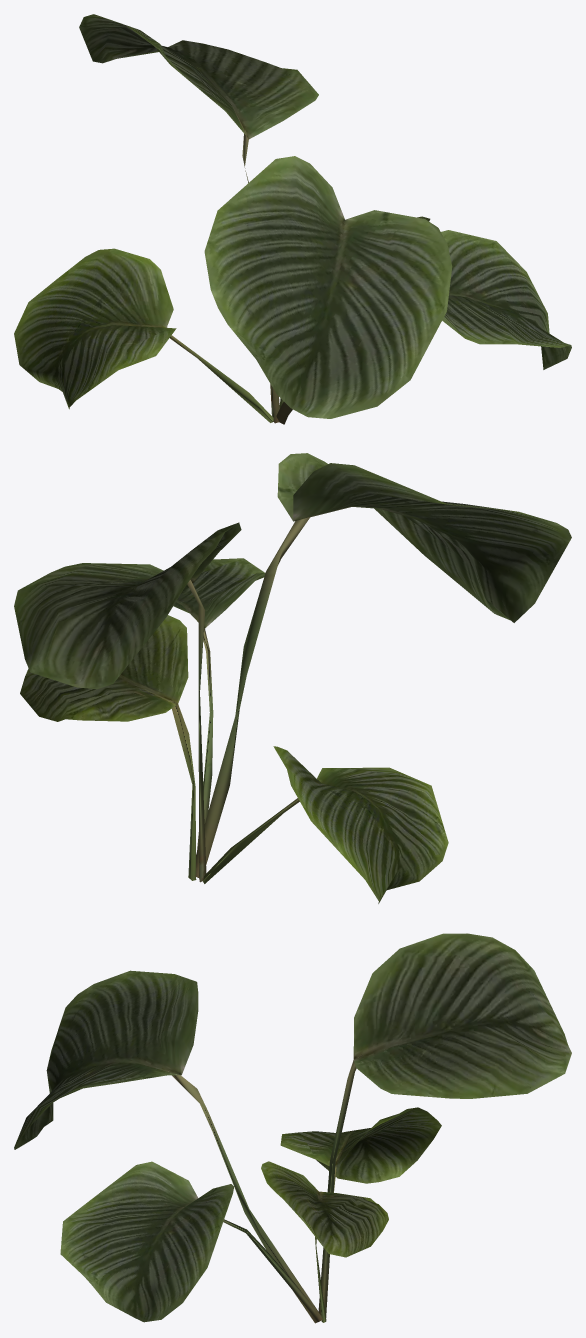
File: plant_calathea_b.glb
3 views of the same model, one above another, from view 1: azimuth 30°, elevation 25°; view 2: azimuth 150°, elevation 25°; view 3: azimuth 270°, elevation 25° (orthographic). The views are drawn at different scales.
Parts seen in each view (by area): view 1: plant_calathea_b; view 2: plant_calathea_b; view 3: plant_calathea_b.
Boxes of the visible parts, box(x1,y1,x2,y2) form: plant_calathea_b: box(14, 14, 571, 424); plant_calathea_b: box(14, 453, 571, 903); plant_calathea_b: box(14, 933, 571, 1323).
Bounding box in the file's own units: 0.3464 × 0.3032 × 0.4401.
Materials: 1 (1 with a texture image).
